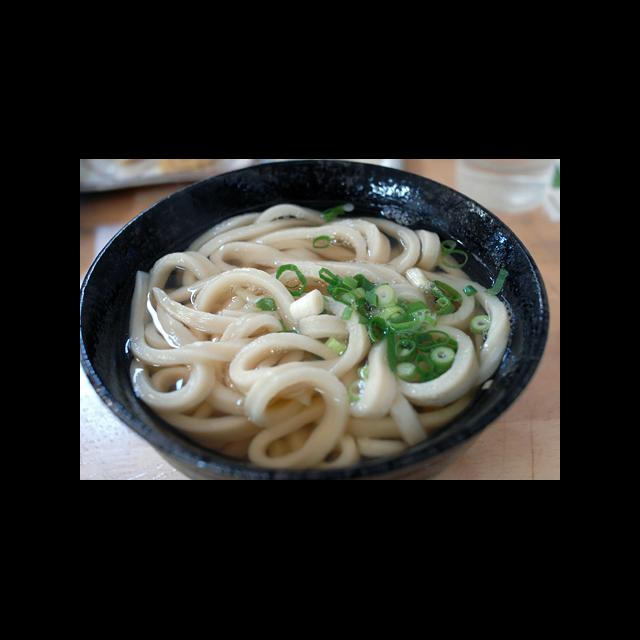noodles: (130, 205, 513, 470)
